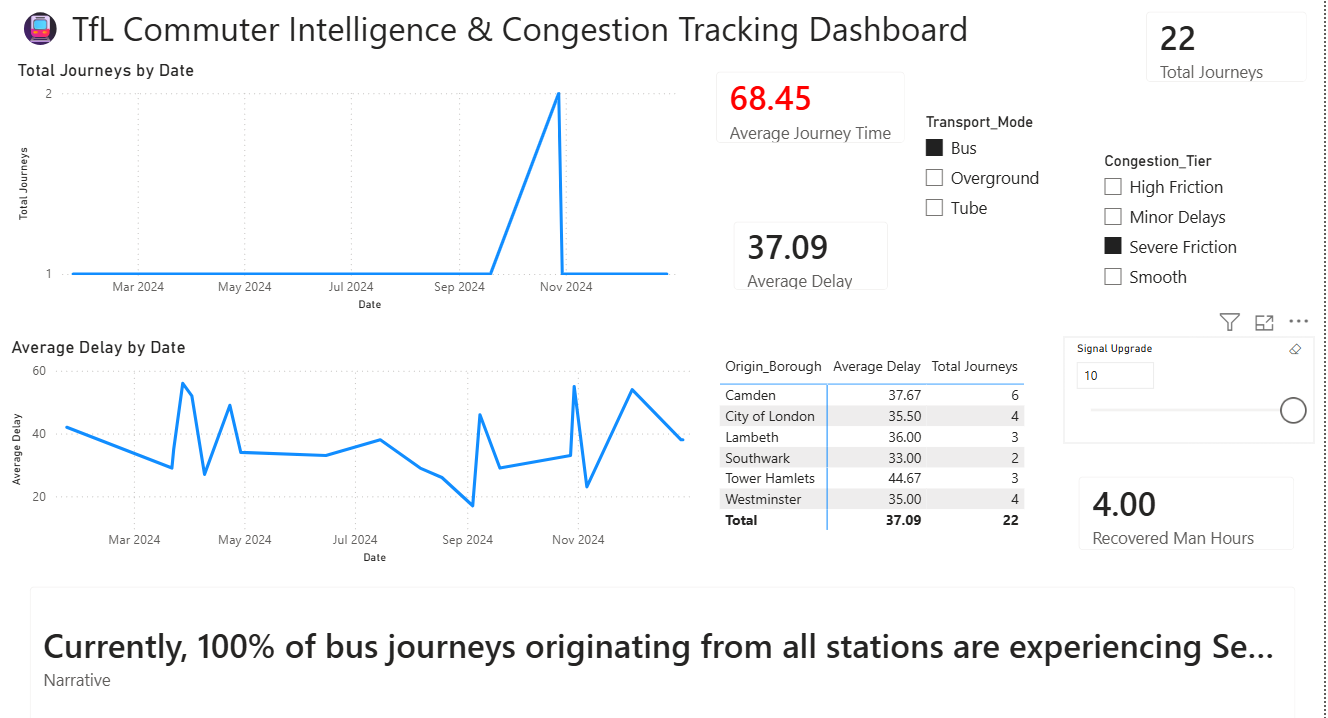

The dashboard page shown, as its layout file describes it:
{"tool":"powerbi","page":{"name":"Page 1","canvas":[1280,720],"ordinal":0},"visuals":[{"type":"cardVisual","fields":{"Data":["tfl_commuter tfl_commuter_trends.Total Journeys"]},"box":[1091.1,0,189.2,102.2],"z":0},{"type":"cardVisual","fields":{"Data":["tfl_commuter tfl_commuter_trends.Average Delay"]},"box":[694.3,203,183.1,100.7],"z":1000},{"type":"cardVisual","fields":{"Data":["tfl_commuter tfl_commuter_trends.Average Journey Time"]},"box":[677.5,58,216.7,103.8],"z":2000},{"type":"lineChart","fields":{"Category":["Calendar.Date"],"Y":["tfl_commuter tfl_commuter_trends.Total Journeys"]},"box":[15.3,62.6,662.3,247.2],"z":3000},{"type":"lineChart","fields":{"Category":["Calendar.Date"],"Y":["tfl_commuter tfl_commuter_trends.Average Delay"]},"box":[9.2,329.6,683.6,224.3],"z":4000},{"type":"slicer","fields":{"Values":["tfl_commuter tfl_commuter_trends.Transport_Mode"]},"box":[883.6,109.9,172.4,129.7],"z":5000},{"type":"slicer","fields":{"Values":["tfl_commuter tfl_commuter_trends.Congestion_Tier"]},"box":[1056,146.5,213.6,157.2],"z":6000},{"type":"pivotTable","fields":{"Rows":["tfl_commuter tfl_commuter_trends.Origin_Borough"],"Values":["tfl_commuter tfl_commuter_trends.Average Delay","tfl_commuter tfl_commuter_trends.Total Journeys"]},"box":[692.8,341.8,334.2,212.1],"z":7000},{"type":"slicer","fields":{"Values":["Signal Upgrade.Signal Upgrade"]},"box":[1028.5,329.6,242.6,103.8],"z":8000},{"type":"cardVisual","fields":{"Data":["tfl_commuter tfl_commuter_trends.Recovered Man Hours"]},"box":[1027,448.6,242.6,105.3],"z":9000},{"type":"cardVisual","fields":{"Data":["tfl_commuter tfl_commuter_trends.Narrative"]},"box":[15.3,553.9,1254.4,166.3],"z":10000},{"type":"textbox","box":[15.3,6.1,947.6,56.5],"z":10001}]}

Visuals, with their boxes on the page's 1280x720 design canvas (x1, y1, x2, y2). These are canvas units, not pixel positions in the 1328x718 screenshot, which may show the page scaled, cropped or inside an application window:
cardVisual - tfl_commuter tfl_commuter_trends.Total Journeys: bbox(1091, 0, 1280, 102)
cardVisual - tfl_commuter tfl_commuter_trends.Average Delay: bbox(694, 203, 877, 304)
cardVisual - tfl_commuter tfl_commuter_trends.Average Journey Time: bbox(678, 58, 894, 162)
lineChart - Calendar.Date x tfl_commuter tfl_commuter_trends.Total Journeys: bbox(15, 63, 678, 310)
lineChart - Calendar.Date x tfl_commuter tfl_commuter_trends.Average Delay: bbox(9, 330, 693, 554)
slicer - tfl_commuter tfl_commuter_trends.Transport_Mode: bbox(884, 110, 1056, 240)
slicer - tfl_commuter tfl_commuter_trends.Congestion_Tier: bbox(1056, 146, 1270, 304)
pivotTable - tfl_commuter tfl_commuter_trends.Origin_Borough x tfl_commuter tfl_commuter_trends.Average Delay: bbox(693, 342, 1027, 554)
slicer - Signal Upgrade.Signal Upgrade: bbox(1028, 330, 1271, 433)
cardVisual - tfl_commuter tfl_commuter_trends.Recovered Man Hours: bbox(1027, 449, 1270, 554)
cardVisual - tfl_commuter tfl_commuter_trends.Narrative: bbox(15, 554, 1270, 720)
textbox: bbox(15, 6, 963, 63)
